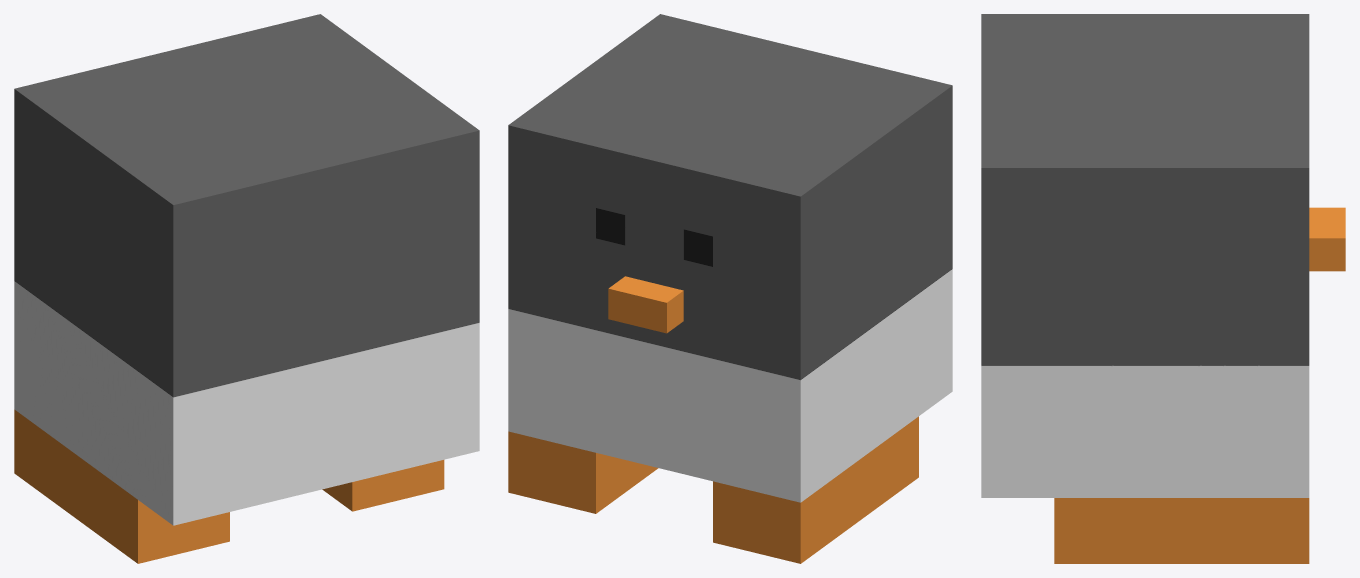
Rendered from Character_15.fbx.
3 renders of one model, left to right at view 1: azimuth 30°, elevation 25°; view 2: azimuth 150°, elevation 25°; view 3: azimuth 270°, elevation 25°, orthographic. The views are drawn at different scales.
Parts seen in each view (by area): view 1: Character_15; view 2: Character_15; view 3: Character_15.
Part boxes in pixels (x1=…): Character_15: x1=14, y1=14, x2=479, y2=563; Character_15: x1=508, y1=14, x2=952, y2=563; Character_15: x1=981, y1=14, x2=1345, y2=563.
Bounding box in the file's own units: 10 × 12 × 10.
Materials: 1 (1 with a texture image).
